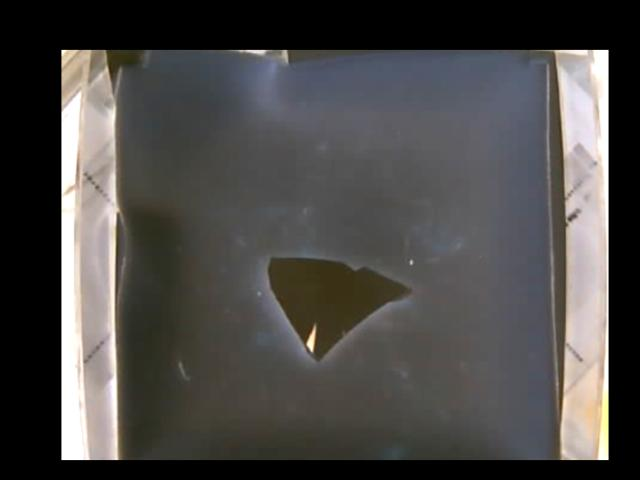China: (266, 255, 411, 357)
